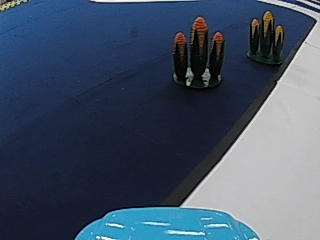corn: (170, 15, 226, 90), (244, 8, 286, 63)
